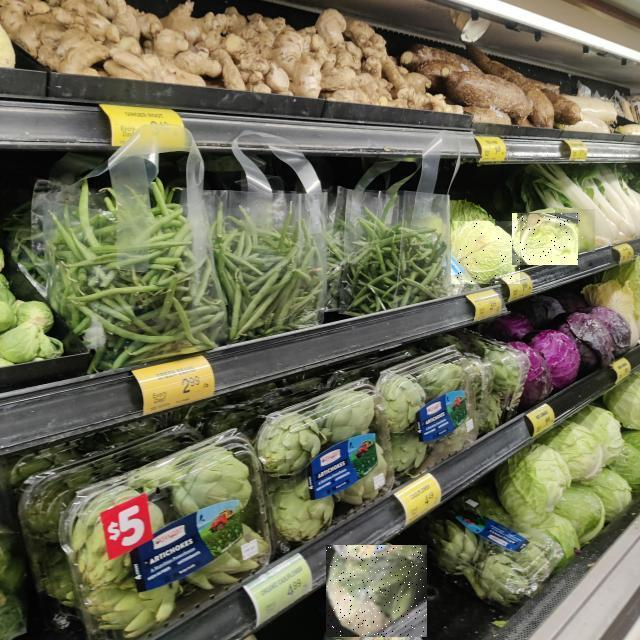Cauliflower: (326, 545, 427, 637)
Lettuce: (451, 221, 520, 284), (513, 213, 579, 265), (555, 209, 595, 252)
